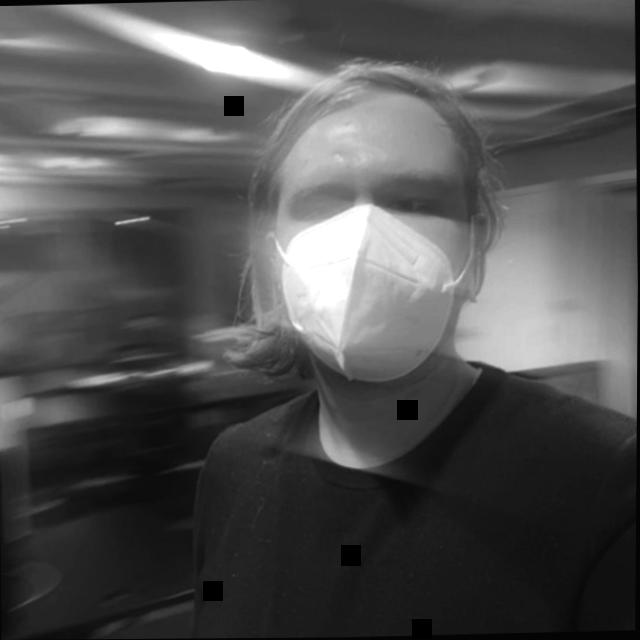Mask: (222, 41, 518, 416)
